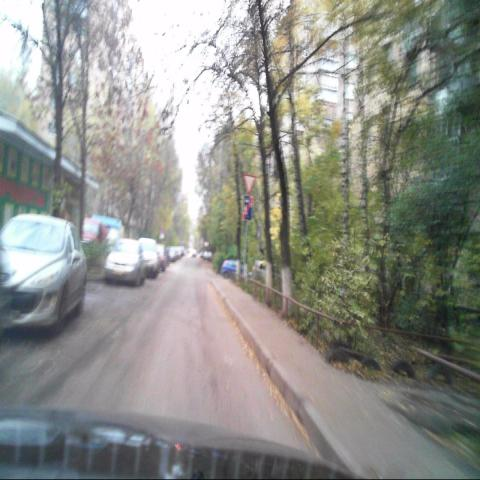5_22: (243, 194, 253, 221)
